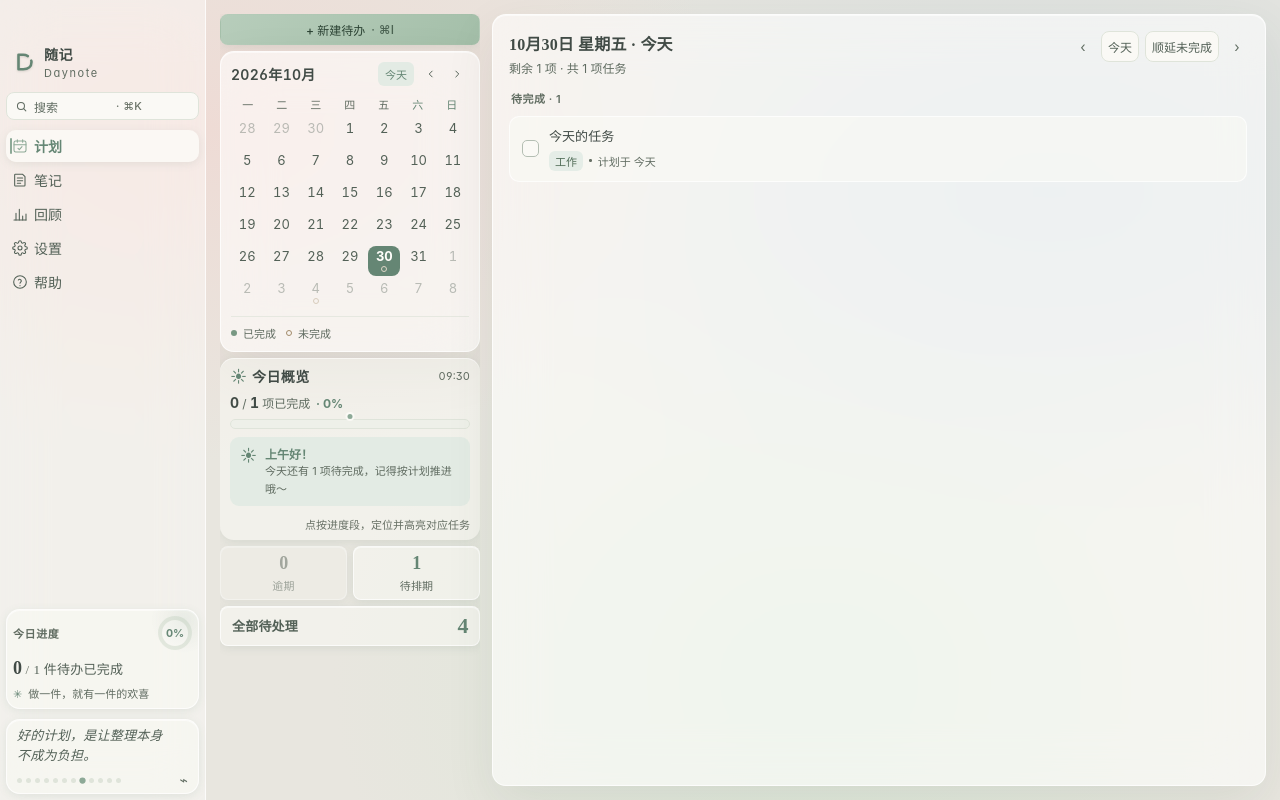
Test: approved UI interactions › keeps an unscheduled search hit in the unscheduled view
Click the button with aria-label "全局搜索": (102, 106) [6,92,199,120]
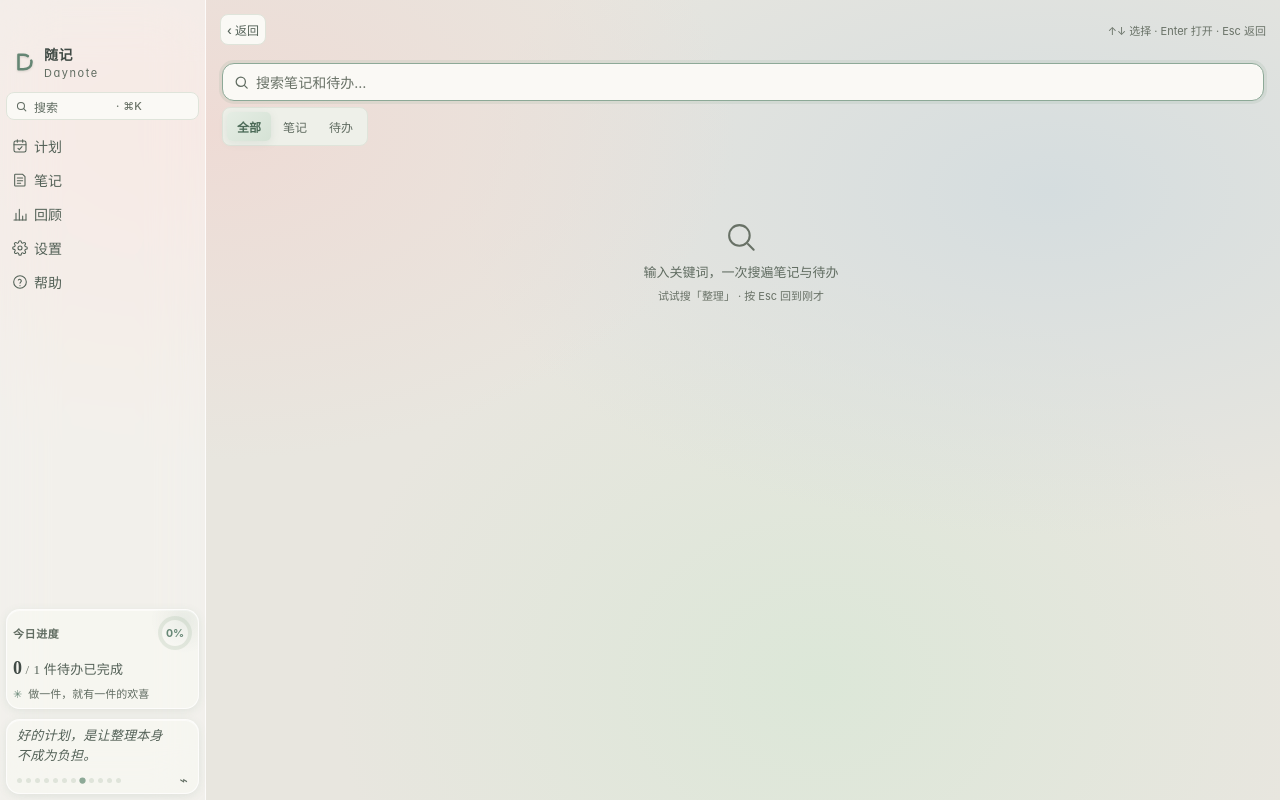
In the field with placeholder "搜索笔记和待办…": (754, 82) [256,74,1253,90], type "待排期任务"
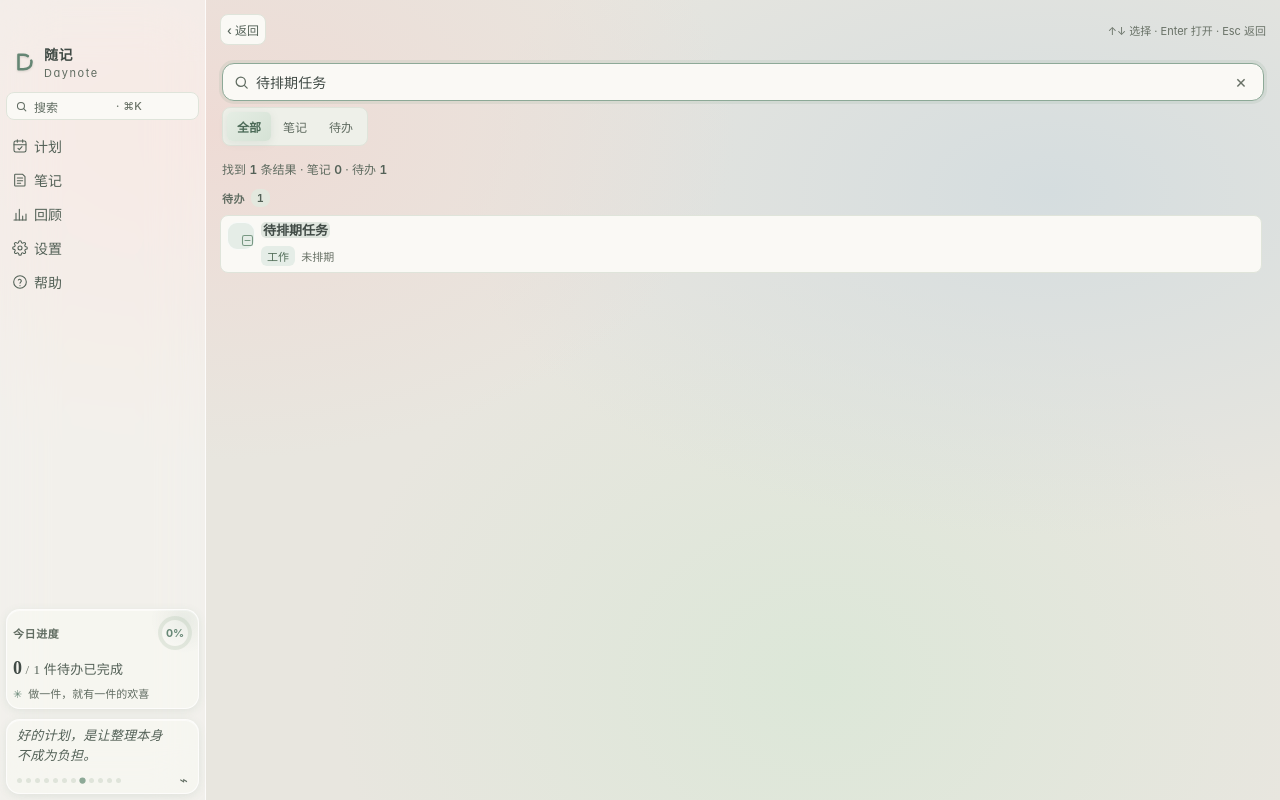
Press Enter in the field with placeholder "搜索笔记和待办…", box [256,74,1223,90]
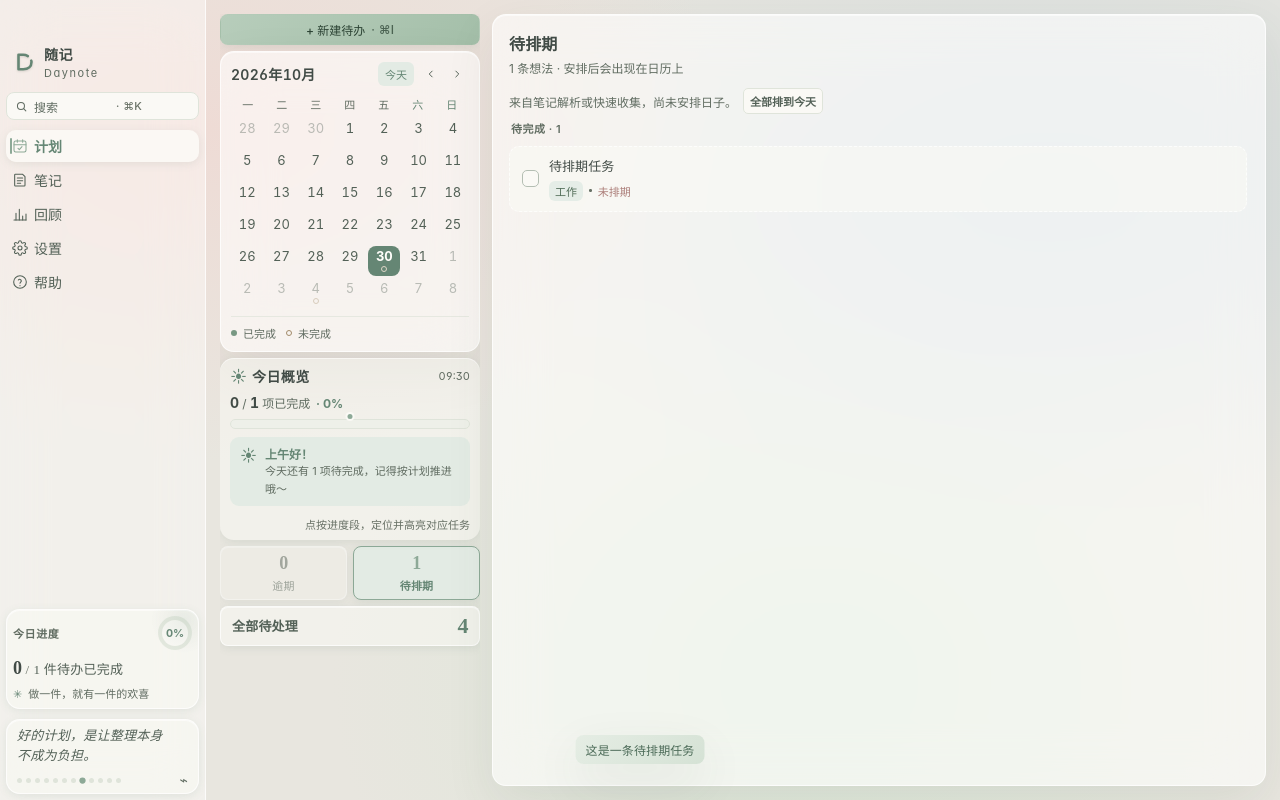
Result: the element with class "task-list" shows "待排期任务" at [549,158,614,174]
